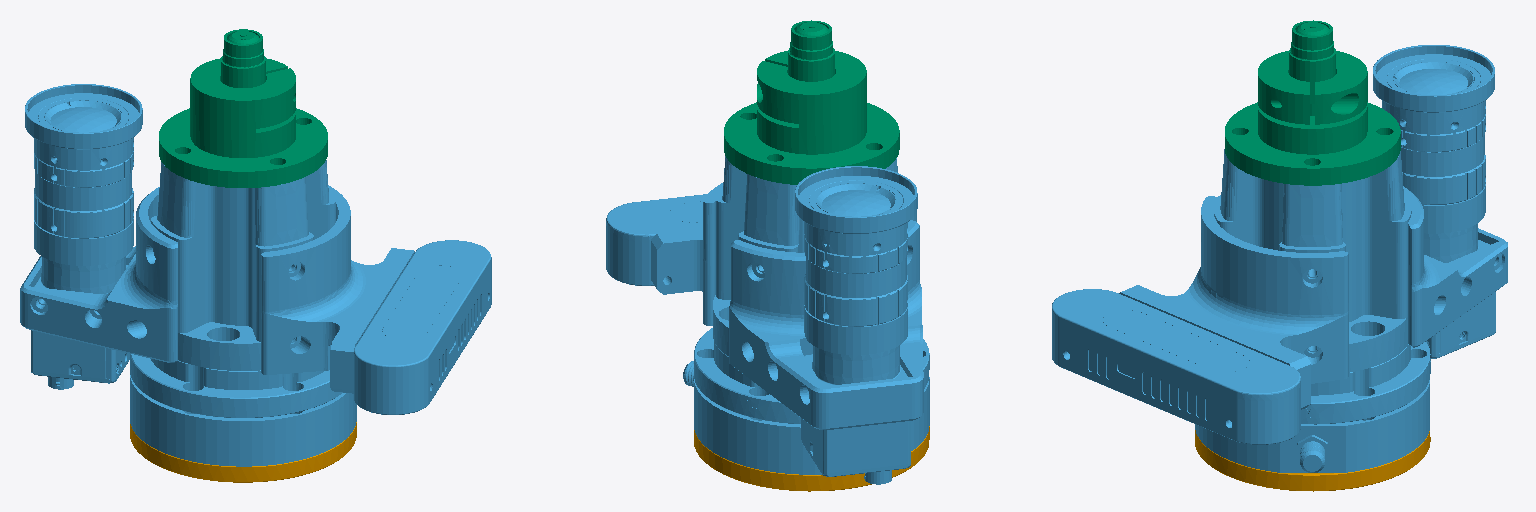
robot.urdf — robot:
<?xml version="1.0" encoding="UTF-8"?>
<robot name="robot">
  <link name="base_link">
    <visual>
      <origin xyz="0 0 0" rpy="0 0 0"/>
      <geometry>
        <mesh filename="meshes/base_link.stl"/>
      </geometry>
    </visual>
    <collision>
      <origin xyz="0 0 0" rpy="0 0 0"/>
      <geometry>
        <mesh filename="meshes/base_link.stl"/>
      </geometry>
    </collision>
  </link>
  <link name="Link_1">
    <visual>
      <origin xyz="0 0 0" rpy="0 0 0"/>
      <geometry>
        <mesh filename="meshes/Link_1.stl"/>
      </geometry>
    </visual>
    <collision>
      <origin xyz="0 0 0" rpy="0 0 0"/>
      <geometry>
        <mesh filename="meshes/Link_1.stl"/>
      </geometry>
    </collision>
  </link>
  <link name="Link_2">
    <visual>
      <origin xyz="0 0 0" rpy="0 0 0"/>
      <geometry>
        <mesh filename="meshes/Link_2.stl"/>
      </geometry>
    </visual>
    <collision>
      <origin xyz="0 0 0" rpy="0 0 0"/>
      <geometry>
        <mesh filename="meshes/Link_2.stl"/>
      </geometry>
    </collision>
  </link>
  <joint name="Joint_1" type="fixed">
    <parent link="base_link"/>
    <child link="Link_1"/>
    <origin xyz="0.05748778 -0.02920351 0.0569" rpy="0 0 0.78539816"/>
    <axis xyz="0 0 1"/>
  </joint>
  <joint name="Joint_2" type="fixed">
    <parent link="base_link"/>
    <child link="Link_2"/>
    <origin xyz="0 0 0.149" rpy="0 0 0"/>
    <axis xyz="0 0 1"/>
  </joint>
</robot>

--- Render facts (derived) ---
Views: 3 orthographic renders of the robot side by side, from view 1: azimuth 30°, elevation 25°; view 2: azimuth 150°, elevation 25°; view 3: azimuth 270°, elevation 25°.
Robot: robot — 3 links, 2 joints (2 fixed); root link base_link; default pose: all joints at 0.
Links seen in each view (by area): view 1: Link_1, Link_2, base_link; view 2: Link_1, Link_2, base_link; view 3: Link_1, Link_2, base_link.
Link boxes in pixels (left/top/right/bottom): Link_1: left=20, top=84, right=491, bottom=466; Link_2: left=159, top=29, right=327, bottom=187; base_link: left=130, top=422, right=356, bottom=482; Link_1: left=606, top=156, right=929, bottom=484; Link_2: left=724, top=20, right=899, bottom=184; base_link: left=694, top=426, right=929, bottom=491; Link_1: left=1052, top=45, right=1507, bottom=472; Link_2: left=1225, top=20, right=1400, bottom=185; base_link: left=1195, top=430, right=1430, bottom=491.
Bounding box of the posed robot: 0.1453 × 0.1453 × 0.149 m (x, y, z).
3 mesh visuals loaded from 3 distinct referenced files (3 binary STL).
